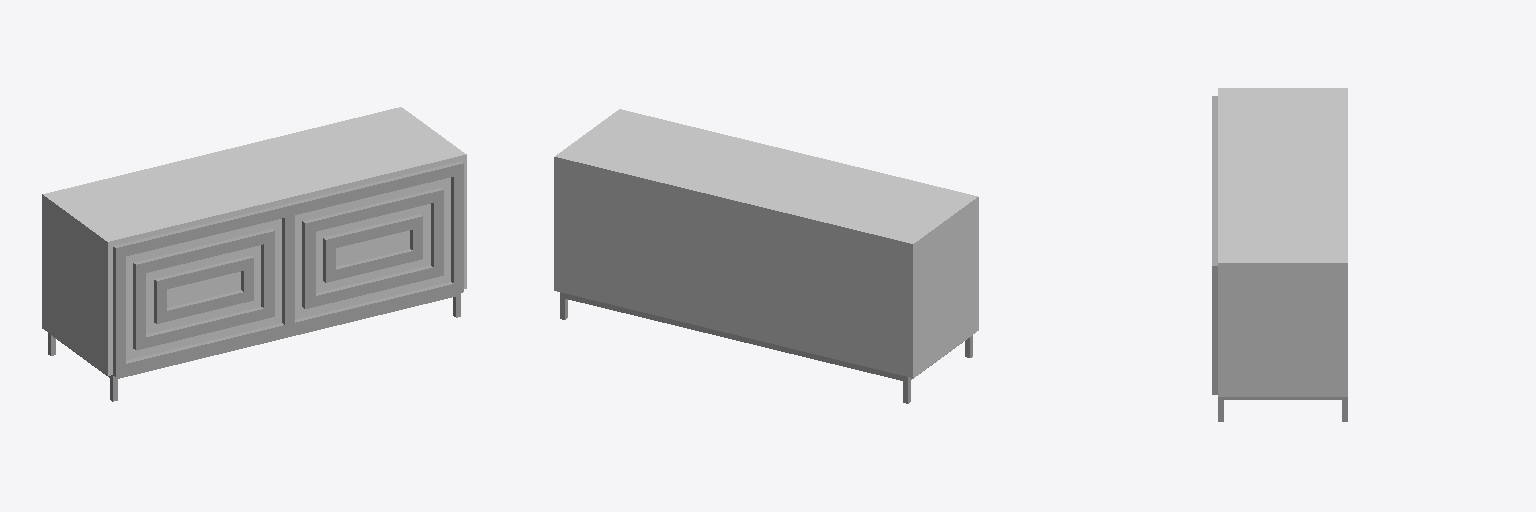
3 renders of one model, left to right at view 1: azimuth 30°, elevation 25°; view 2: azimuth 150°, elevation 25°; view 3: azimuth 270°, elevation 25°, orthographic.
Visible parts, largest first — view 1: closet6; view 2: closet6; view 3: closet6.
Boxes of the visible parts, box(x1,y1,x2,y2) form: closet6: box(42, 107, 466, 401); closet6: box(554, 109, 978, 403); closet6: box(1212, 88, 1347, 421).
Size of the model in its own units: 7 by 3 by 2.3.
Materials: 1 (1 with a texture image).